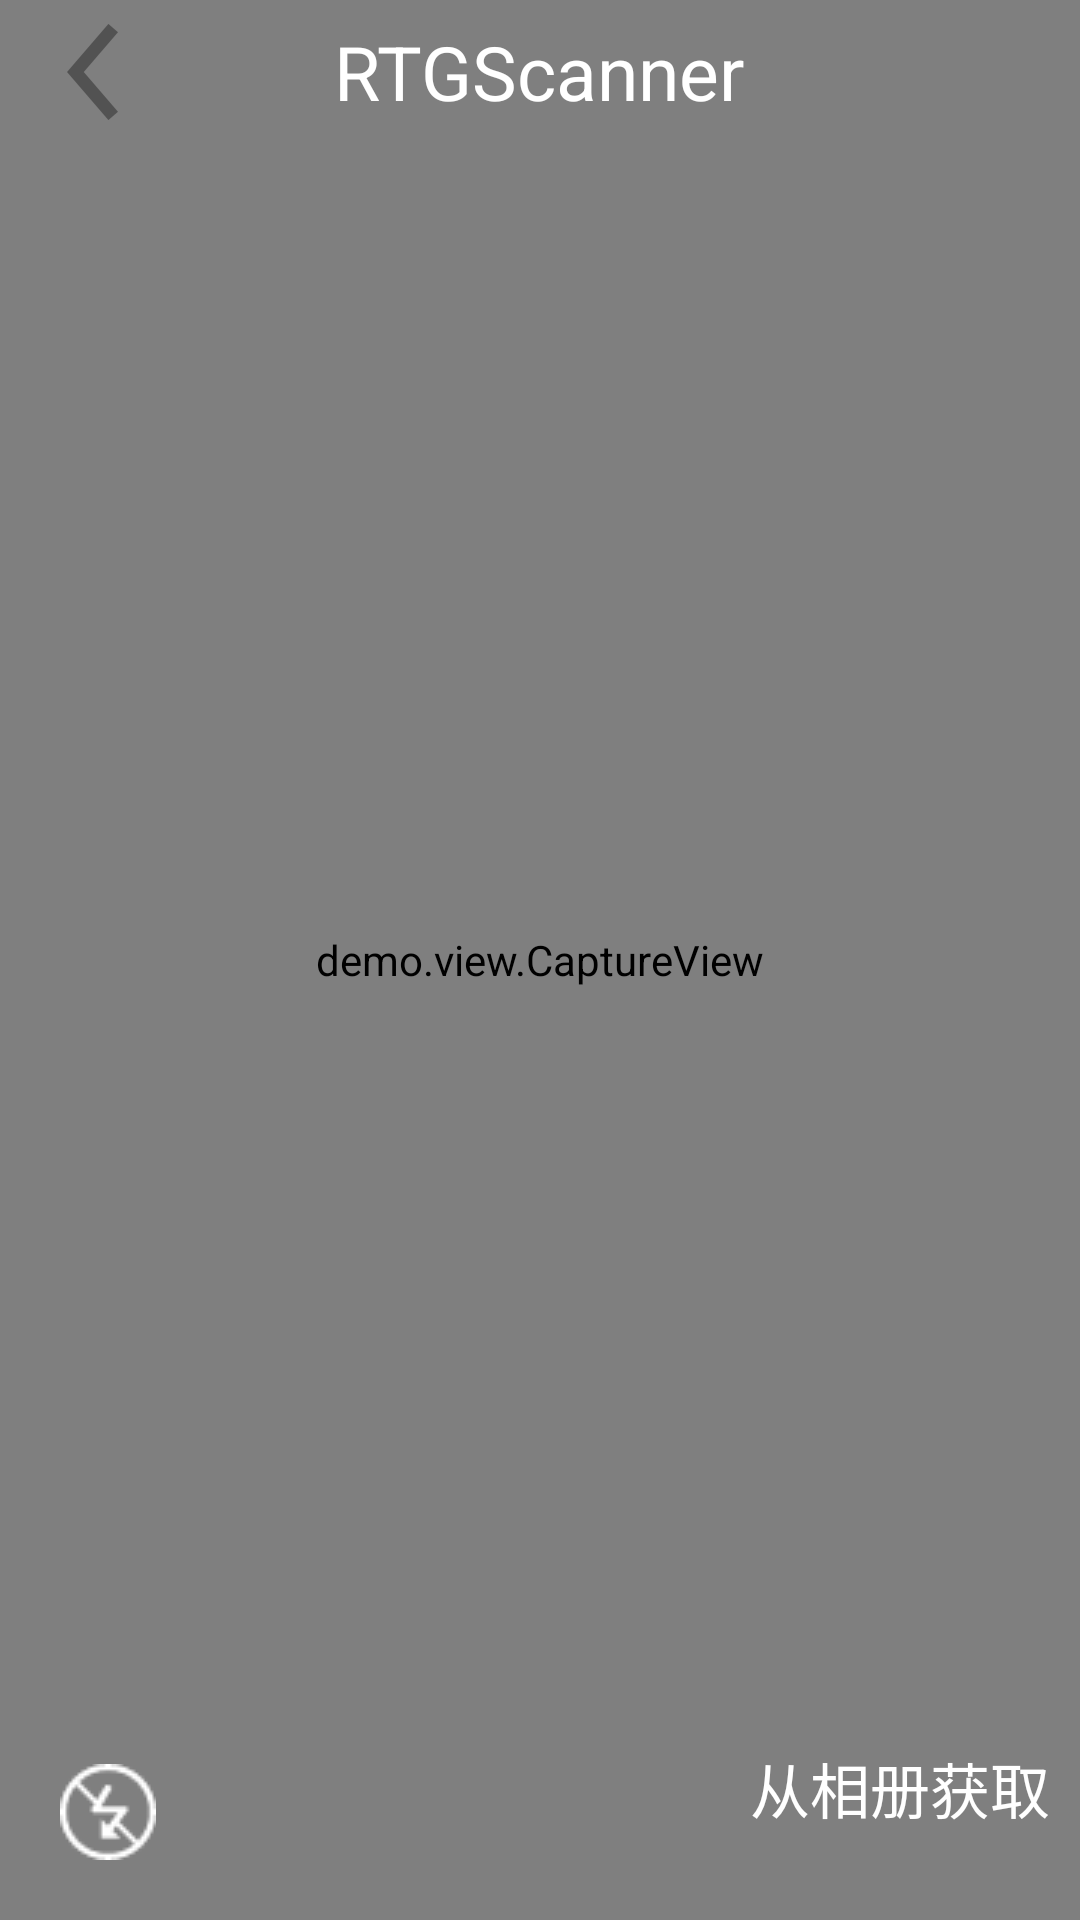

Icons on this 1080 × 1920 Android screen, each with its box as (x1, y1, x2, y2):
back: (67, 24, 118, 120)
barcode flashlight: (60, 1764, 156, 1860)
